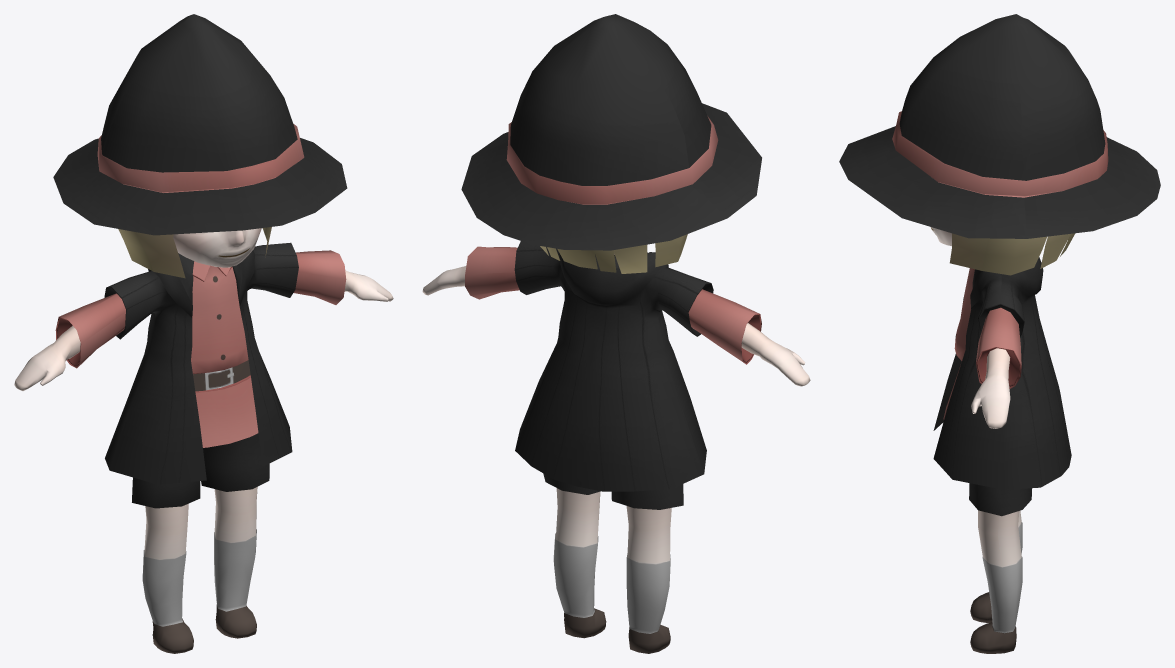
File: player01.fbx
3 renders of one model, left to right at view 1: azimuth 30°, elevation 25°; view 2: azimuth 150°, elevation 25°; view 3: azimuth 270°, elevation 25°, orthographic. The views are drawn at different scales.
Visible parts, largest first — view 1: pasted__pPlane5, polySurface8, polySurface7, polySurface9, polySurface5, polySurface6, polySurface10, polySurface11, pPlane5; view 2: pasted__pPlane5, polySurface8, polySurface7, polySurface10, pPlane5, polySurface5, polySurface11, polySurface6; view 3: pasted__pPlane5, polySurface8, polySurface7, pPlane5, polySurface5, polySurface11, polySurface6, polySurface9.
Boxes of the visible parts, left/top/right/bottom form: pasted__pPlane5: left=53, top=14, right=347, bottom=235; polySurface8: left=104, top=242, right=298, bottom=484; polySurface7: left=142, top=487, right=257, bottom=653; polySurface9: left=191, top=261, right=258, bottom=447; polySurface5: left=14, top=228, right=393, bottom=390; polySurface6: left=132, top=433, right=269, bottom=508; polySurface10: left=55, top=293, right=125, bottom=368; polySurface11: left=293, top=250, right=346, bottom=304; pPlane5: left=118, top=227, right=271, bottom=278; pasted__pPlane5: left=461, top=14, right=761, bottom=250; polySurface8: left=514, top=241, right=713, bottom=491; polySurface7: left=553, top=488, right=671, bottom=653; polySurface10: left=688, top=289, right=761, bottom=364; pPlane5: left=540, top=234, right=687, bottom=273; polySurface5: left=422, top=254, right=810, bottom=386; polySurface11: left=465, top=246, right=519, bottom=299; polySurface6: left=543, top=473, right=683, bottom=509; pasted__pPlane5: left=839, top=14, right=1160, bottom=238; polySurface8: left=933, top=257, right=1071, bottom=489; polySurface7: left=970, top=510, right=1022, bottom=653; pPlane5: left=949, top=233, right=1075, bottom=275; polySurface5: left=930, top=227, right=1010, bottom=428; polySurface11: left=976, top=307, right=1021, bottom=388; polySurface6: left=969, top=483, right=1031, bottom=516; polySurface9: left=943, top=268, right=974, bottom=419.
Size of the model in its own units: 330 by 517 by 244.
